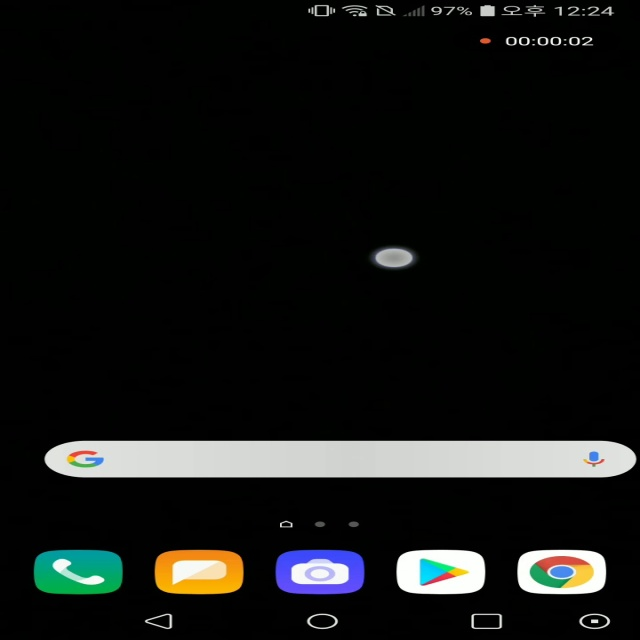Cursor: (373, 247, 417, 269)
